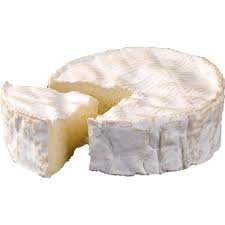camembert: (1, 46, 225, 182)
